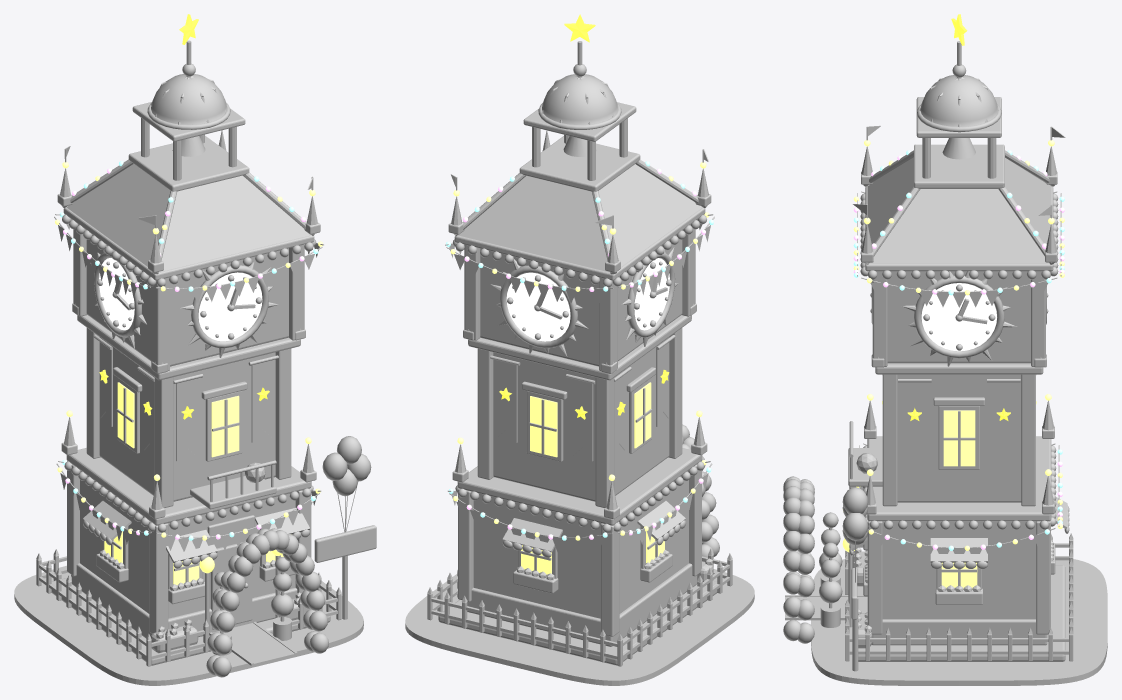
File: clock-tower-stage-6-merged.a7999642.glb
The picture shows the model from 3 angles, left to right: view 1: azimuth 30°, elevation 25°; view 2: azimuth 150°, elevation 25°; view 3: azimuth 270°, elevation 25°; orthographic projection.
Parts seen in each view (by area): view 1: ClockTower_Stage6__T_vcol, ClockTower_Stage6__G_clockface, ClockTower_Stage6__G_window, ClockTower_Stage6__G_bulb_warm, ClockTower_Stage6__G_star_gold, ClockTower_Stage6__G_bulb_cyan; view 2: ClockTower_Stage6__T_vcol, ClockTower_Stage6__G_clockface, ClockTower_Stage6__G_window, ClockTower_Stage6__G_bulb_warm, ClockTower_Stage6__G_star_gold, ClockTower_Stage6__G_bulb_cyan, ClockTower_Stage6__G_bulb_pink; view 3: ClockTower_Stage6__T_vcol, ClockTower_Stage6__G_clockface, ClockTower_Stage6__G_window, ClockTower_Stage6__G_bulb_warm, ClockTower_Stage6__G_bulb_cyan, ClockTower_Stage6__G_bulb_pink.
Part boxes in pixels (x1,y1,x2,y2): ClockTower_Stage6__T_vcol: [14, 40, 376, 685]; ClockTower_Stage6__G_clockface: [99, 258, 262, 341]; ClockTower_Stage6__G_window: [104, 382, 291, 585]; ClockTower_Stage6__G_bulb_warm: [55, 162, 322, 540]; ClockTower_Stage6__G_star_gold: [99, 14, 269, 419]; ClockTower_Stage6__G_bulb_cyan: [60, 161, 318, 540]; ClockTower_Stage6__T_vcol: [405, 41, 754, 685]; ClockTower_Stage6__G_clockface: [506, 258, 669, 341]; ClockTower_Stage6__G_window: [521, 382, 664, 574]; ClockTower_Stage6__G_bulb_warm: [450, 162, 709, 540]; ClockTower_Stage6__G_star_gold: [499, 14, 669, 419]; ClockTower_Stage6__G_bulb_cyan: [446, 161, 713, 540]; ClockTower_Stage6__G_bulb_pink: [463, 168, 705, 539]; ClockTower_Stage6__T_vcol: [783, 41, 1107, 685]; ClockTower_Stage6__G_clockface: [921, 283, 996, 351]; ClockTower_Stage6__G_window: [842, 410, 977, 588]; ClockTower_Stage6__G_bulb_warm: [853, 140, 1064, 550]; ClockTower_Stage6__G_bulb_cyan: [853, 150, 1064, 550]; ClockTower_Stage6__G_bulb_pink: [853, 155, 1064, 549].
Size of the model in its own units: 4.98 by 10.86 by 5.25.
